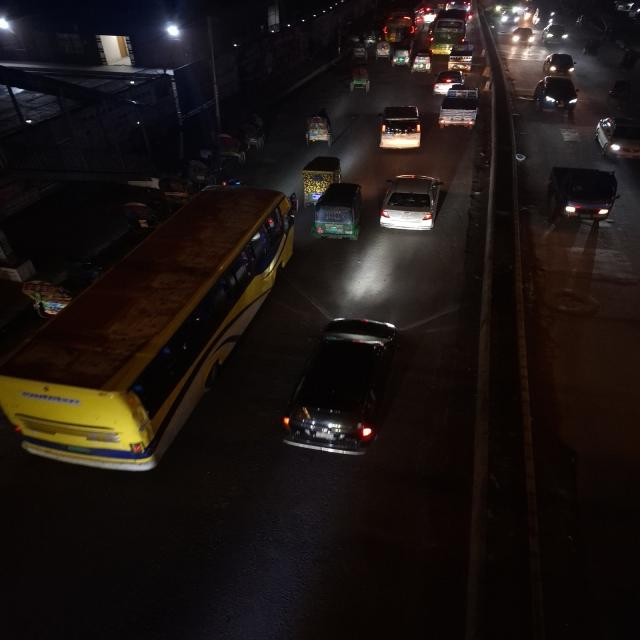bus: (0, 189, 294, 479), (428, 8, 471, 53), (493, 0, 528, 24)
car: (279, 312, 413, 464), (374, 171, 454, 237), (375, 102, 425, 154), (592, 113, 640, 163), (531, 74, 582, 120), (541, 52, 579, 76), (431, 69, 468, 93), (542, 22, 571, 45), (510, 25, 537, 49)
cng: (309, 181, 364, 246), (391, 41, 412, 67), (412, 48, 433, 74)
pickup_van: (543, 162, 624, 229), (435, 89, 483, 135), (447, 43, 478, 71)
rickshaw: (5, 257, 94, 317), (210, 108, 270, 164), (298, 153, 343, 203), (298, 105, 338, 148), (345, 63, 373, 95), (374, 38, 392, 60), (351, 40, 368, 63), (362, 30, 379, 50)
